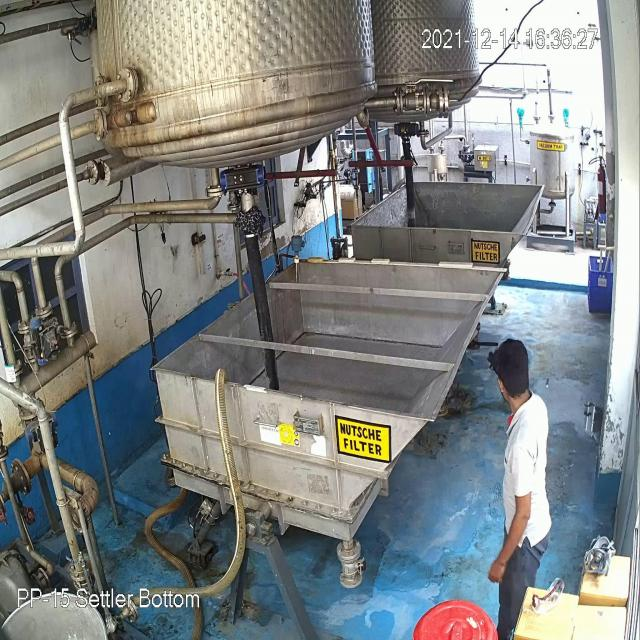No_Gloves: (483, 502, 532, 587)
